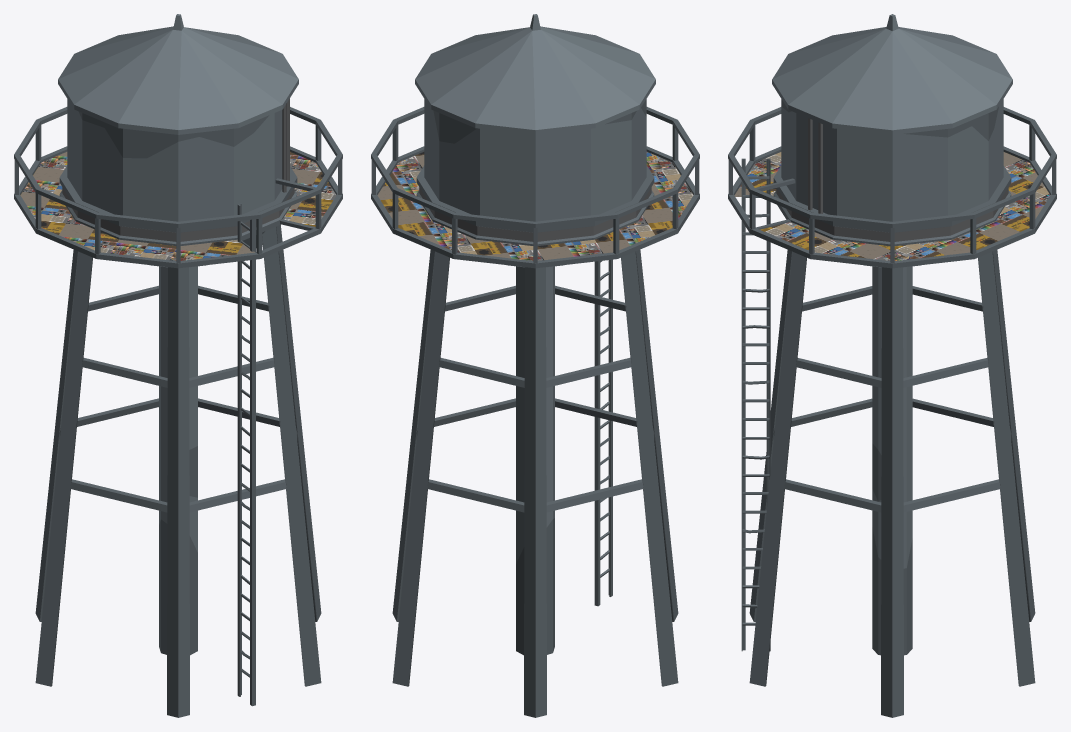
File: watertower.glb
3 renders of one model, left to right at view 1: azimuth 30°, elevation 25°; view 2: azimuth 150°, elevation 25°; view 3: azimuth 270°, elevation 25°, orthographic.
Parts seen in each view (by area): view 1: SM_Bld_WaterTower_01; view 2: SM_Bld_WaterTower_01; view 3: SM_Bld_WaterTower_01.
Boxes of the visible parts, x1,y1,x2,y2 form: SM_Bld_WaterTower_01: [14, 14, 342, 717]; SM_Bld_WaterTower_01: [371, 14, 699, 717]; SM_Bld_WaterTower_01: [728, 14, 1056, 717].
Bounding box in the file's own units: 5.98 × 12.71 × 5.96.
1 material, 1 textured.
